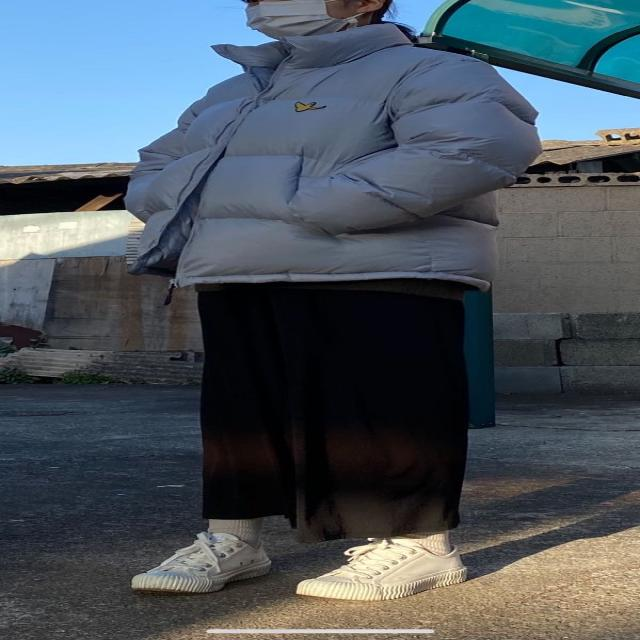padding: (124, 25, 546, 290)
slacks: (196, 281, 472, 541)
